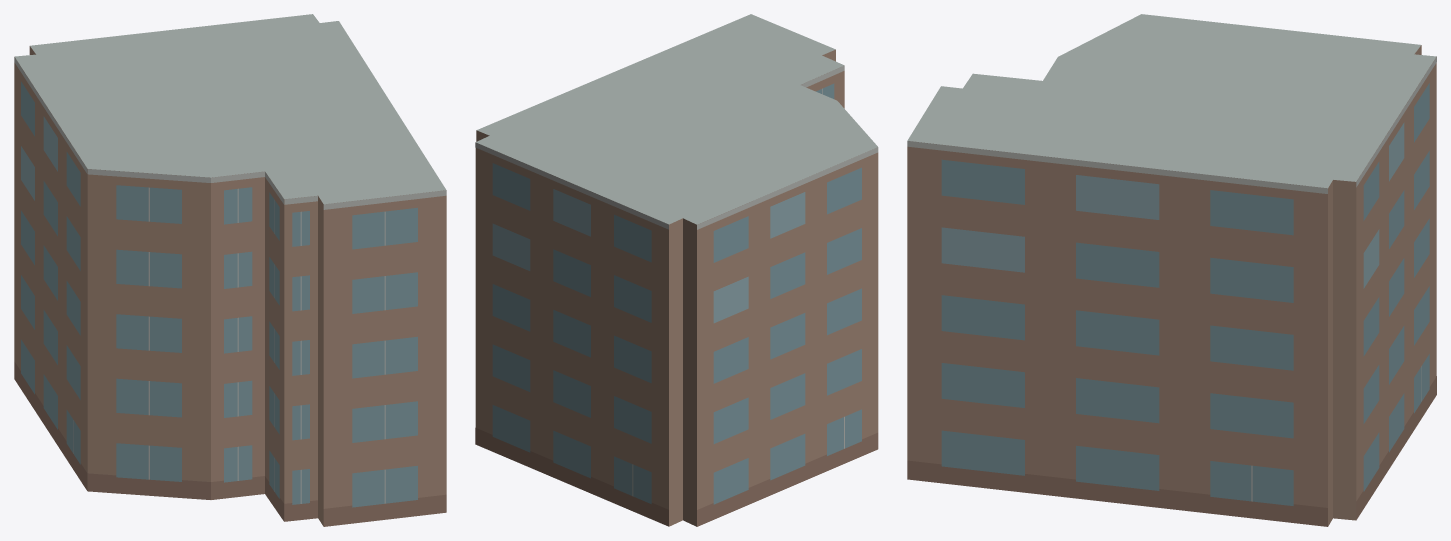
The model's file is survey-upis-32678278.glb.
3 views of the same model, side by side, from view 1: azimuth 30°, elevation 25°; view 2: azimuth 150°, elevation 25°; view 3: azimuth 270°, elevation 25° (orthographic). The views are drawn at different scales.
Visible parts, largest first — view 1: survey-upis-32678278.tmp; view 2: survey-upis-32678278.tmp; view 3: survey-upis-32678278.tmp.
Boxes of the visible parts, x1=… form: survey-upis-32678278.tmp: x1=14, y1=14, x2=446, y2=526; survey-upis-32678278.tmp: x1=475, y1=14, x2=878, y2=526; survey-upis-32678278.tmp: x1=907, y1=14, x2=1436, y2=526.
Size of the model in its own units: 15.58 by 14.1 by 19.99.
